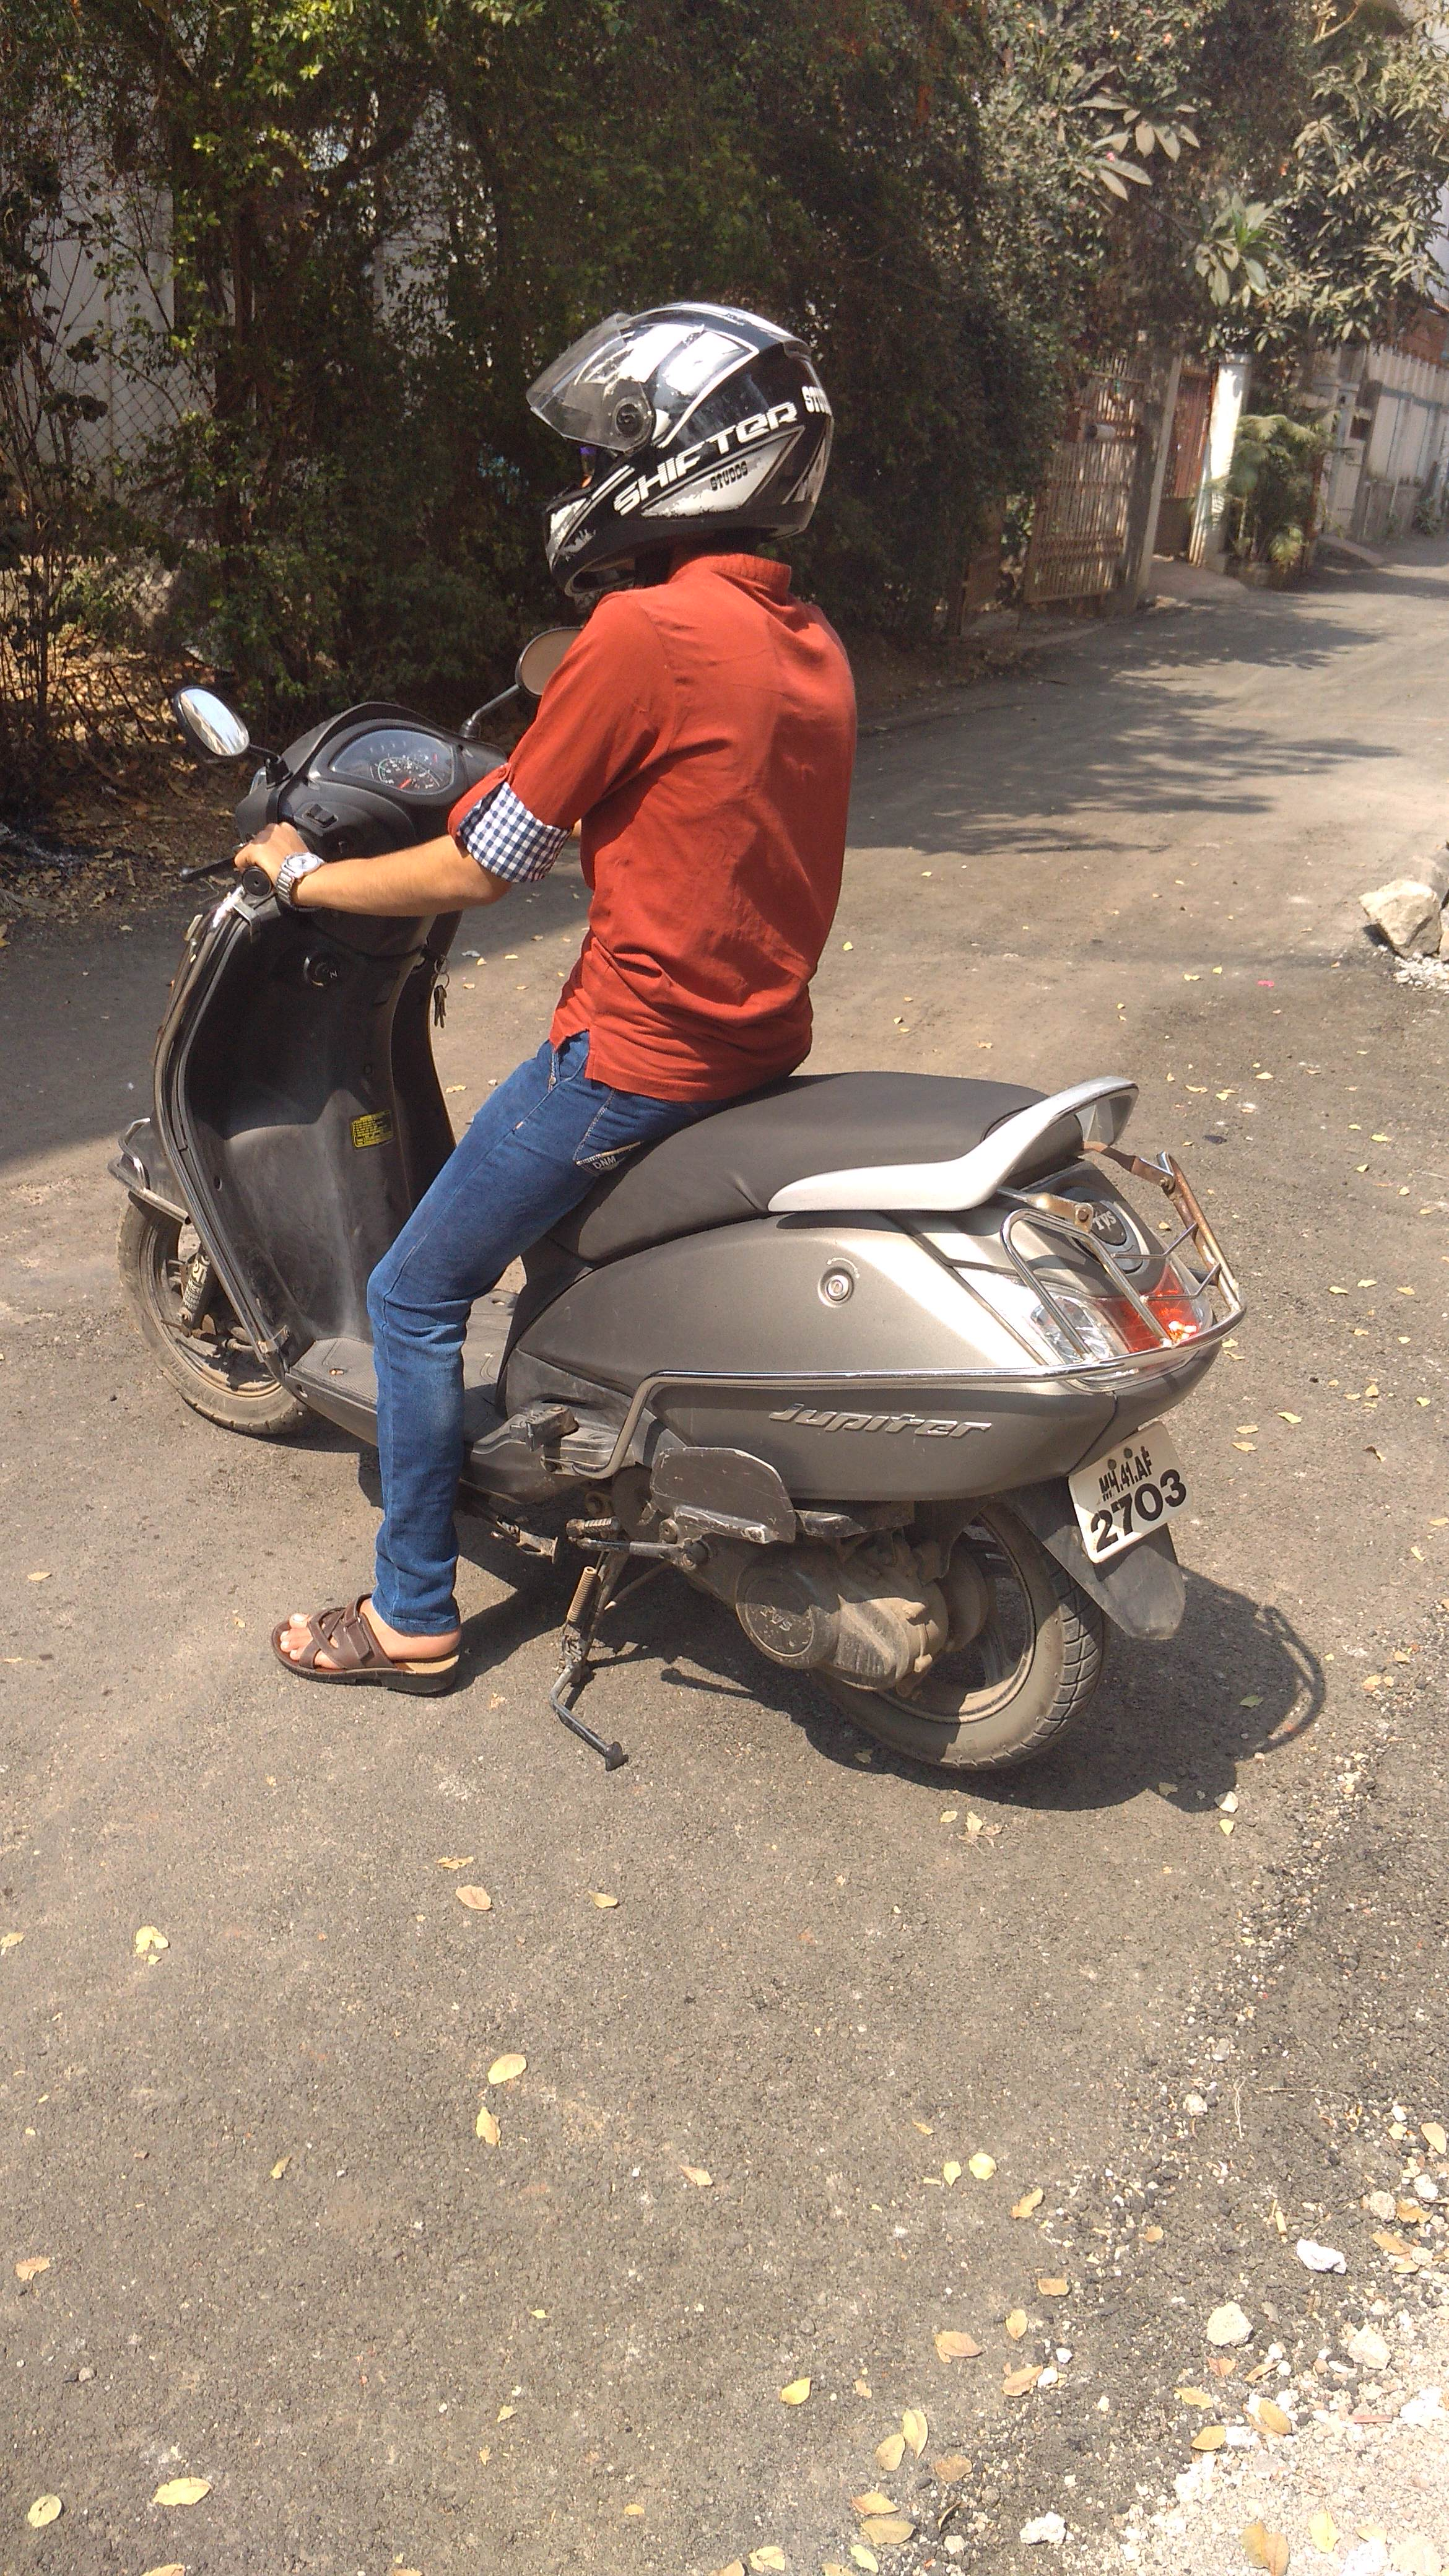helmet: (357, 244, 878, 1681)
